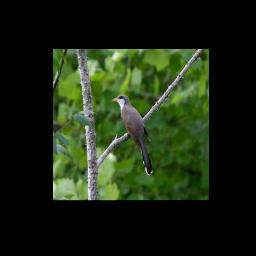Cuckoo: (110, 93, 154, 176)
